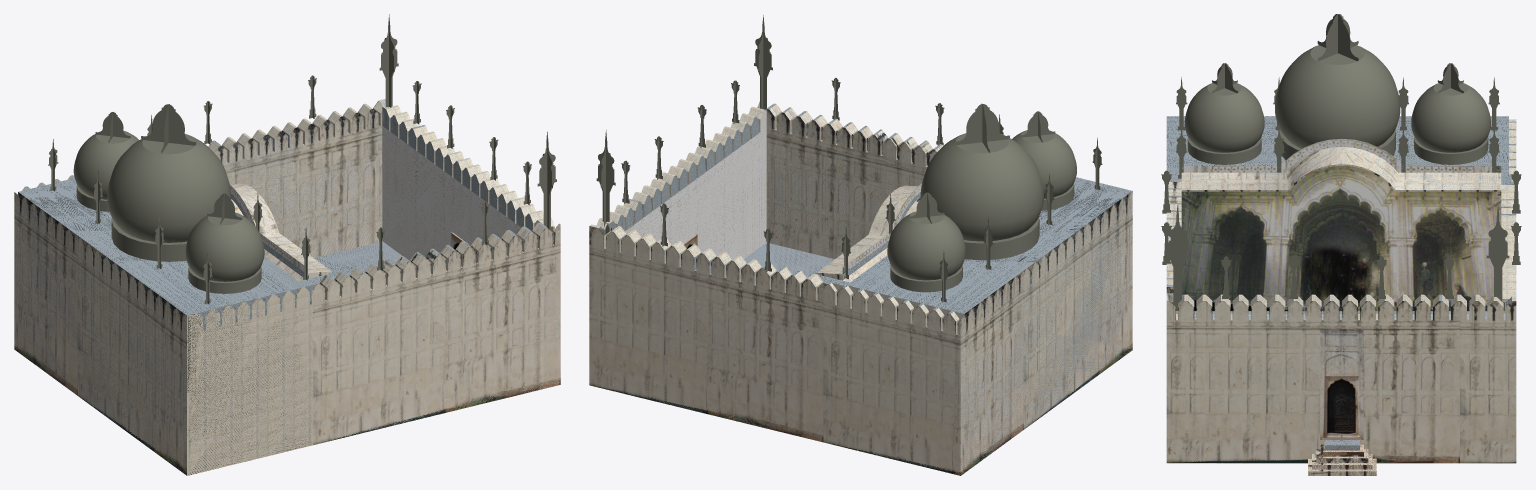
Rendered from moti.fbx.
3 views of the same model, side by side, from view 1: azimuth 30°, elevation 25°; view 2: azimuth 150°, elevation 25°; view 3: azimuth 270°, elevation 25° (orthographic).
Visible parts, largest first — view 1: Model, Group3, Group2, Group1, Group13, Group12; view 2: Model, Group3, Group1, Group2, Group12, Group13; view 3: Model, Group3, Group2, Group1, Group13, Group12.
Part boxes in pixels (x1=…): Model: x1=14, y1=99, x2=560, y2=475; Group3: x1=107, y1=104, x2=231, y2=261; Group2: x1=185, y1=193, x2=264, y2=293; Group1: x1=73, y1=112, x2=138, y2=211; Group13: x1=537, y1=131, x2=556, y2=234; Group12: x1=379, y1=14, x2=398, y2=121; Model: x1=589, y1=101, x2=1132, y2=475; Group3: x1=920, y1=103, x2=1043, y2=260; Group1: x1=887, y1=192, x2=965, y2=292; Group2: x1=1012, y1=111, x2=1076, y2=210; Group12: x1=596, y1=130, x2=615, y2=234; Group13: x1=754, y1=15, x2=772, y2=109; Model: x1=1166, y1=116, x2=1516, y2=475; Group3: x1=1275, y1=14, x2=1400, y2=159; Group2: x1=1184, y1=63, x2=1264, y2=164; Group1: x1=1411, y1=63, x2=1490, y2=164; Group13: x1=1166, y1=205, x2=1188, y2=310; Group12: x1=1486, y1=204, x2=1509, y2=310.
Bounding box in the file's own units: 20334 × 14287 × 15697.
